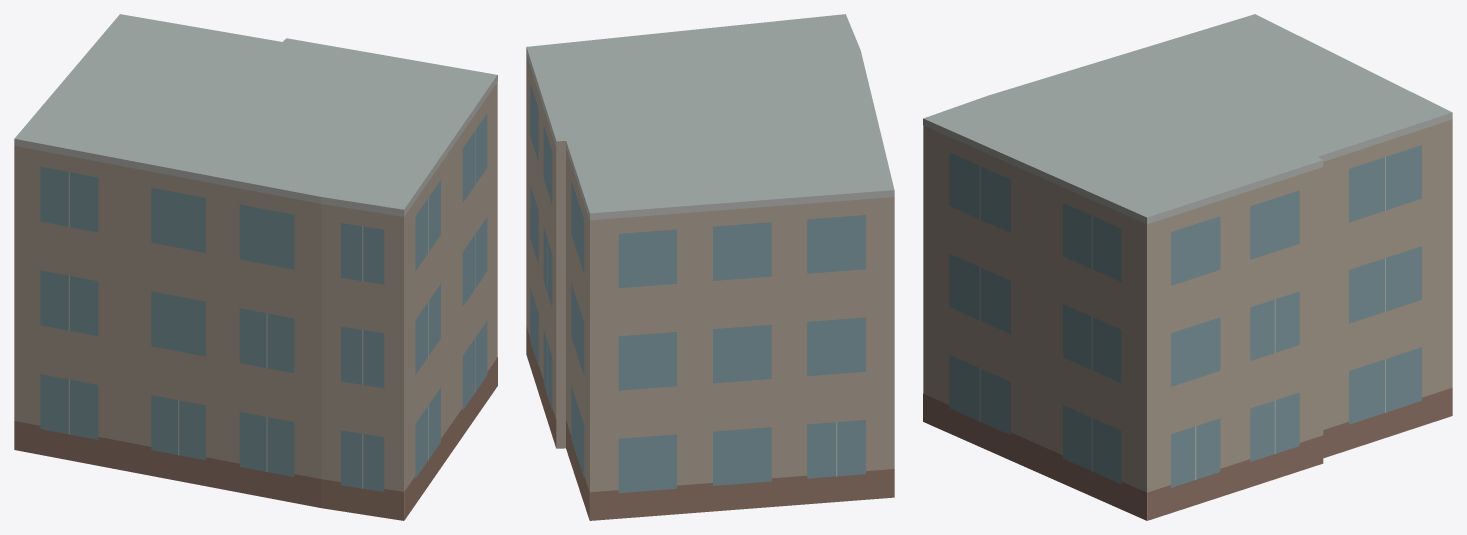
Rendered from survey-upis-33023213.glb.
3 views of the same model, side by side, from view 1: azimuth 30°, elevation 25°; view 2: azimuth 150°, elevation 25°; view 3: azimuth 270°, elevation 25° (orthographic). The views are drawn at different scales.
Visible parts, largest first — view 1: survey-upis-33023213.tmp; view 2: survey-upis-33023213.tmp; view 3: survey-upis-33023213.tmp.
Boxes of the visible parts, bbox=[...] form: survey-upis-33023213.tmp: bbox=[14, 14, 497, 520]; survey-upis-33023213.tmp: bbox=[526, 14, 894, 520]; survey-upis-33023213.tmp: bbox=[923, 14, 1452, 520].
Bounding box in the file's own units: 15.63 × 10.85 × 17.17.
